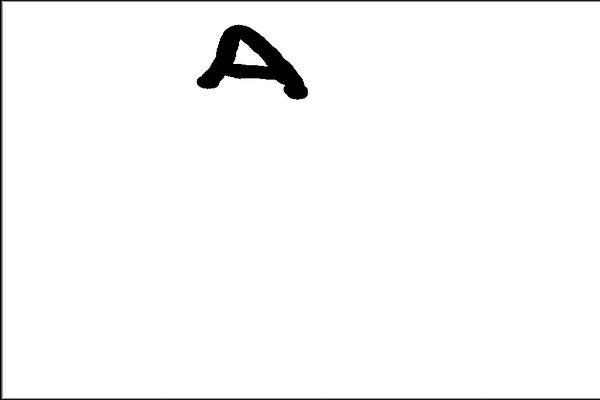A: (180, 19, 312, 109)
